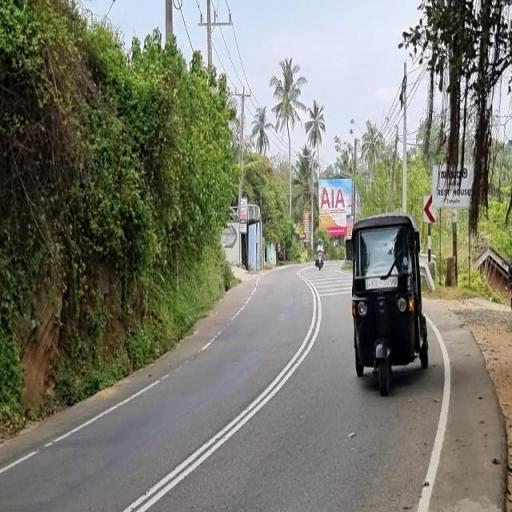double_white_line: (124, 274, 322, 512)
